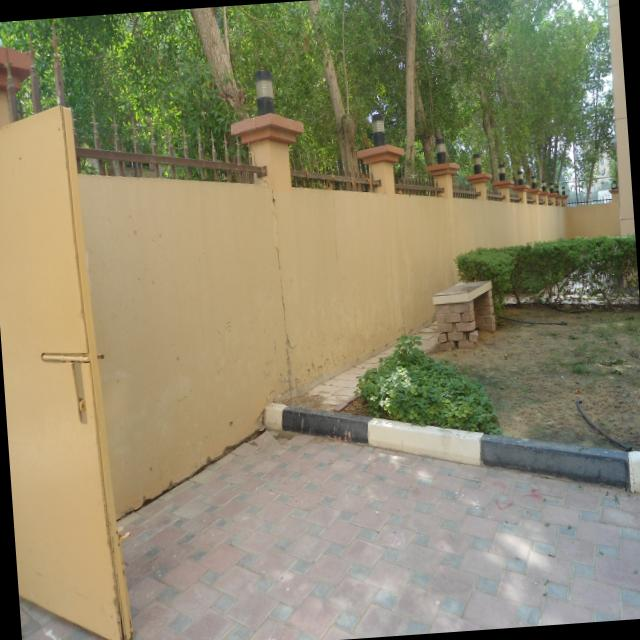bench: (432, 280, 495, 350)
bush: (455, 235, 640, 316), (357, 336, 502, 435)
door: (0, 106, 133, 640)
path: (118, 432, 640, 640)
tree-chair-bench-table-wall: (119, 432, 640, 640), (0, 0, 407, 172), (413, 0, 614, 196)
wall: (77, 174, 566, 516), (234, 284, 237, 288)
